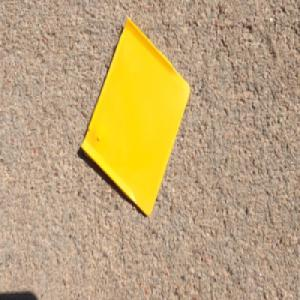PlasticPart: (81, 15, 193, 219)
